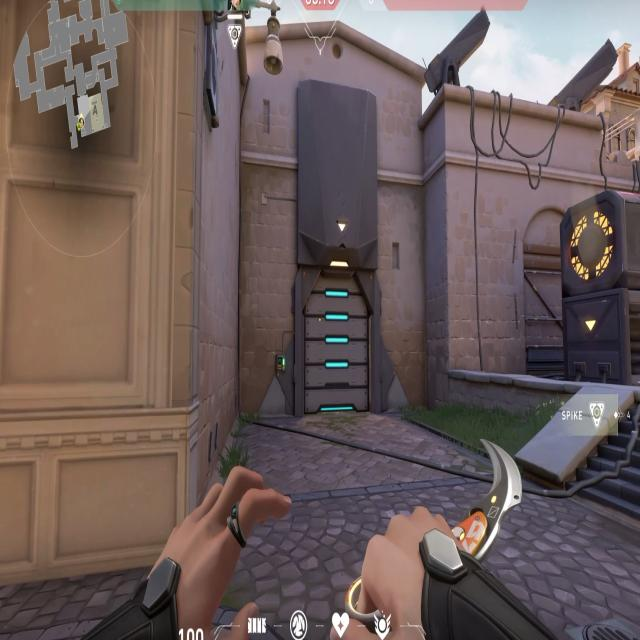A_Door: (290, 256, 386, 431)
